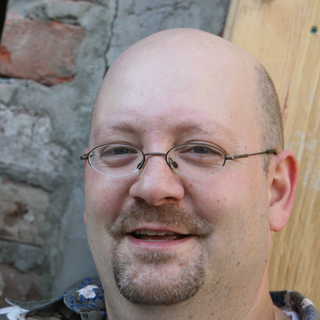eye: (178, 140, 224, 165), (93, 141, 138, 165)
